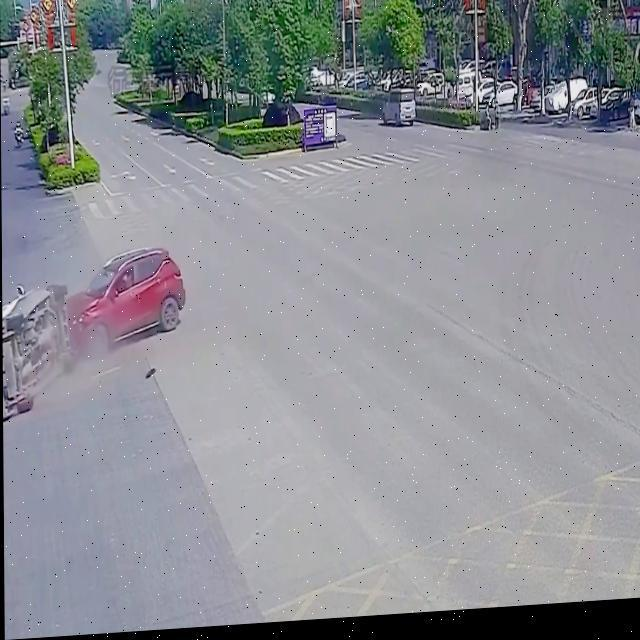multiple_accident: (15, 239, 194, 421)
